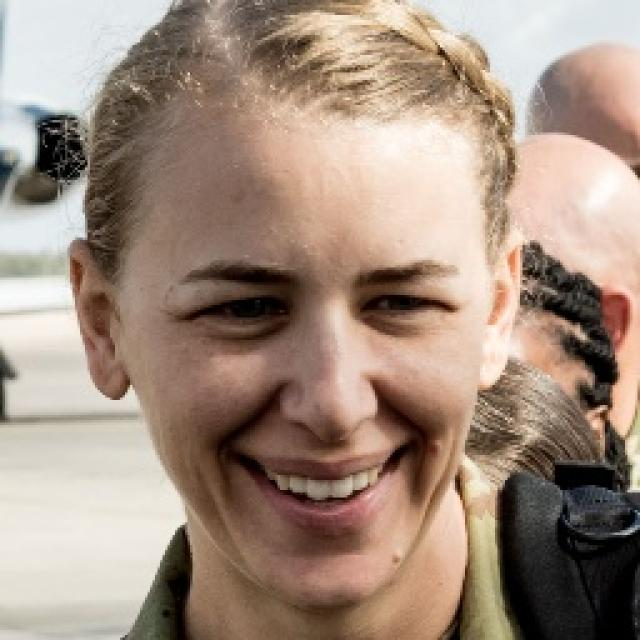earlobe: (69, 236, 133, 403), (475, 236, 526, 392)
